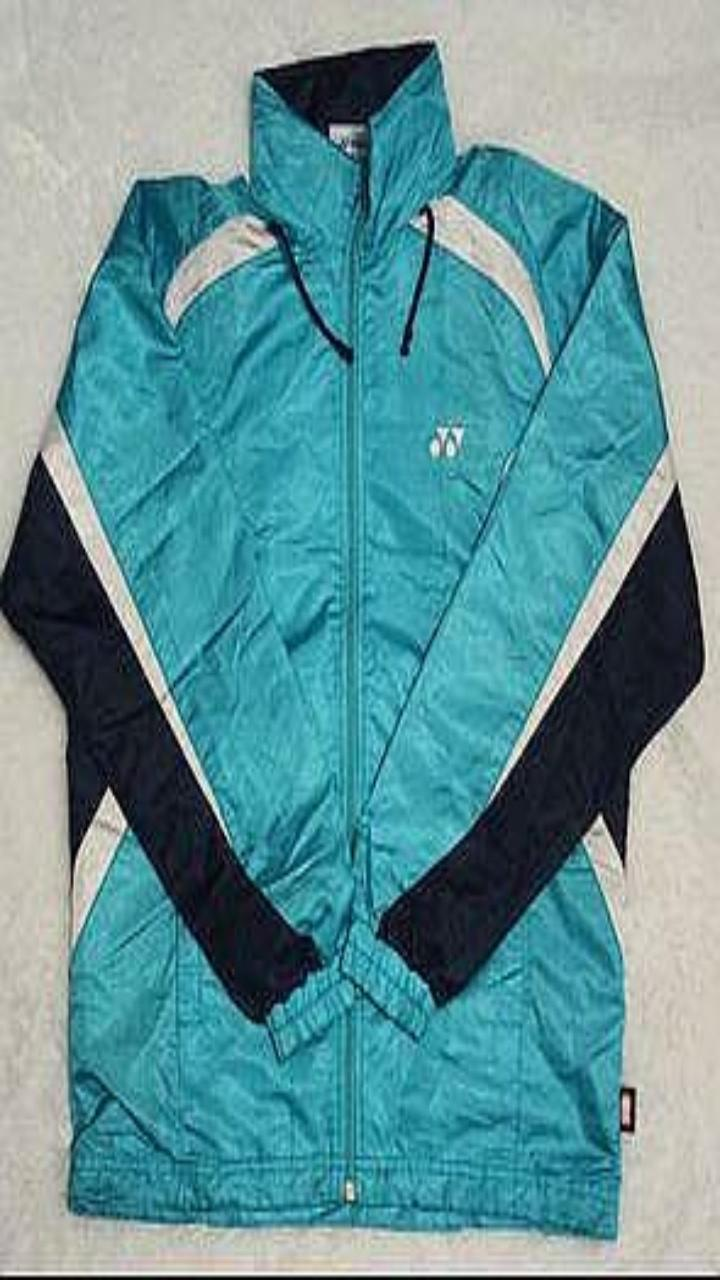Sports_Jacket: (2, 42, 702, 1236)
